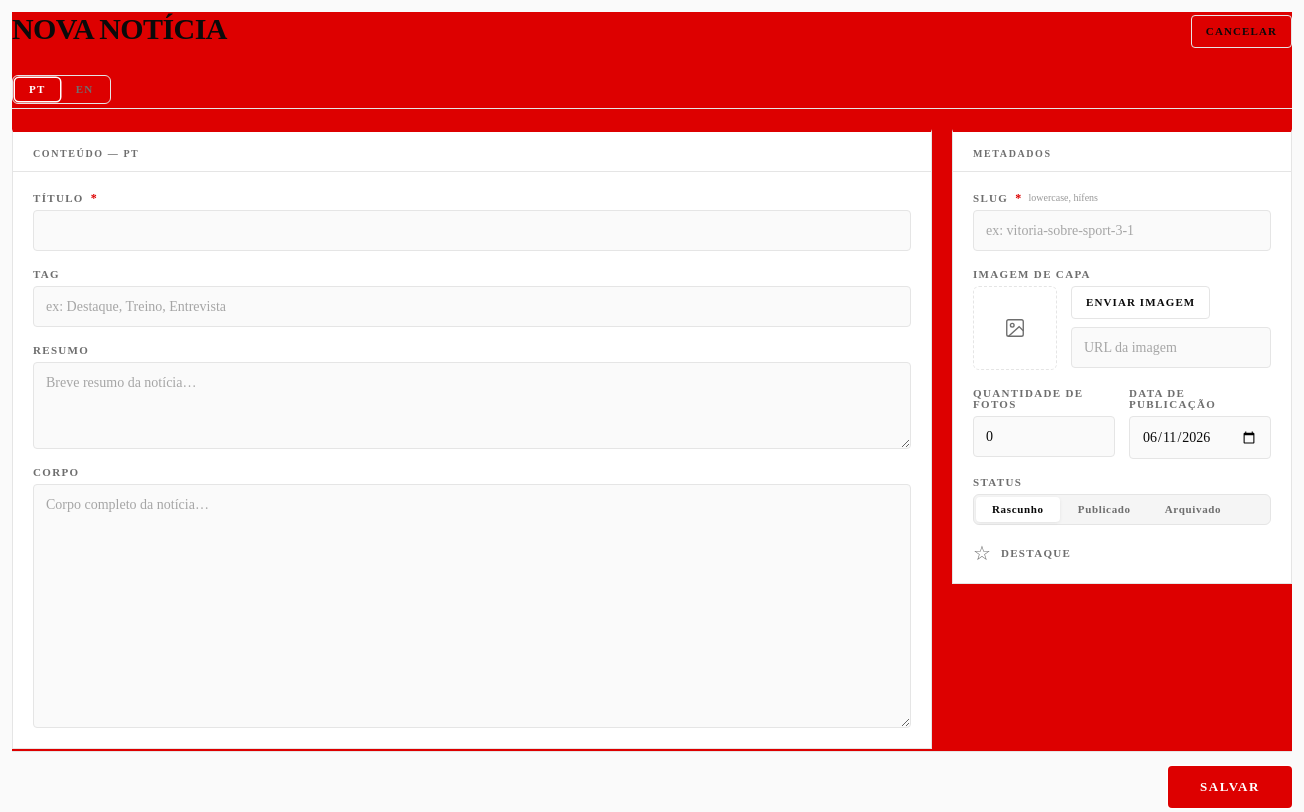
it: NewsForm › shows error when createNews returns readonly error
In the field labelled "Título *": x=472, y=230 [33,210,911,251], type "Artigo"
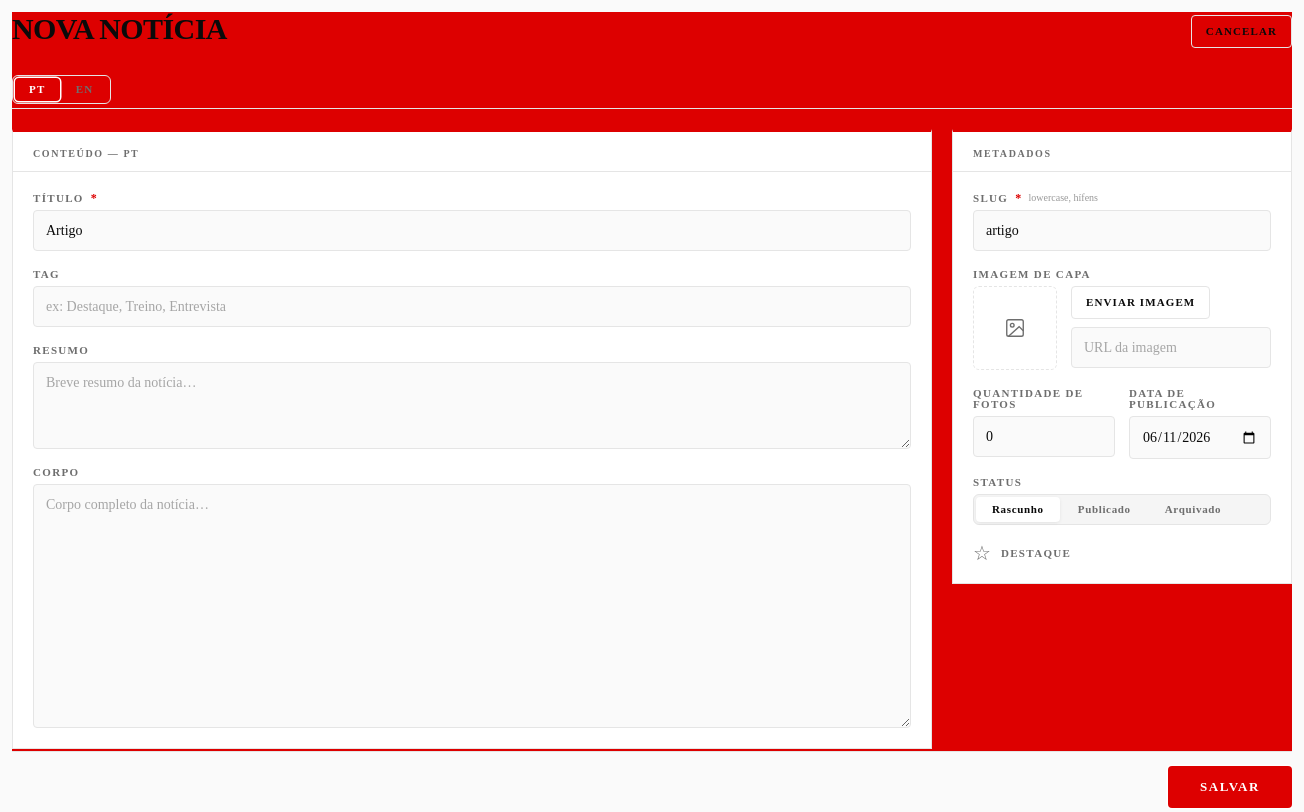
Click the button "Salvar": x=1230, y=787 [1168,766,1292,808]
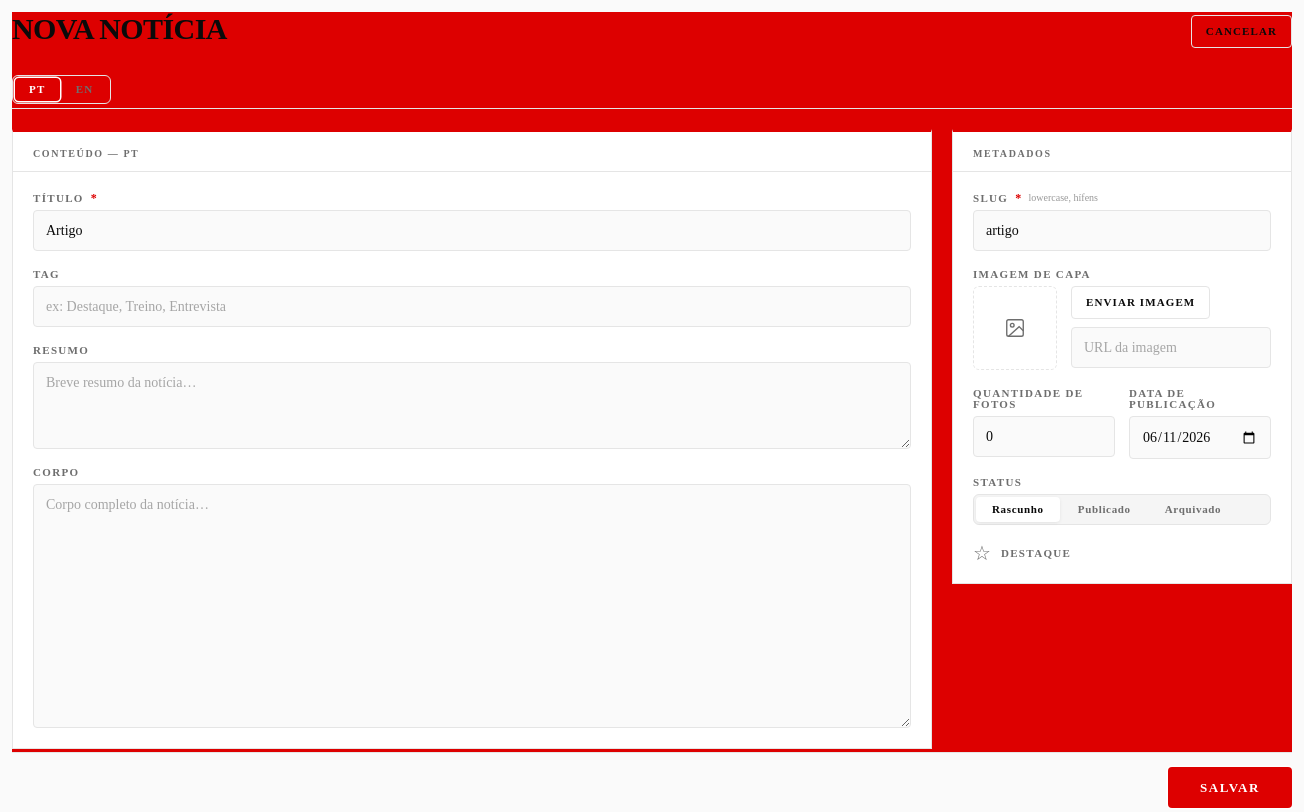
Now the message is shown, box [12,765,1292,811]
